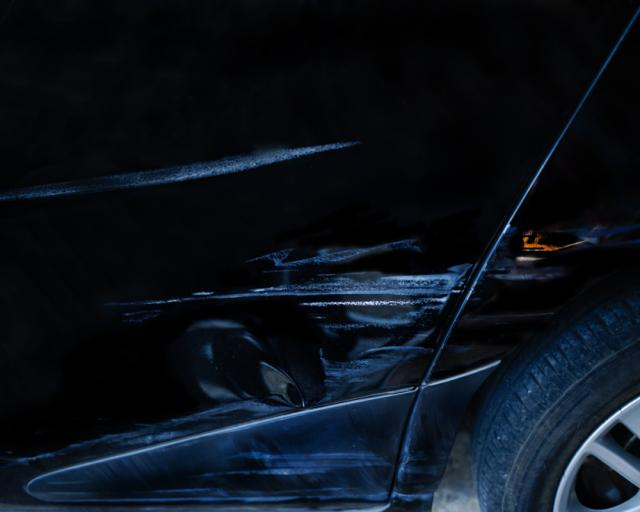dent: (154, 301, 330, 417)
scratch: (241, 230, 483, 391), (128, 449, 396, 508), (490, 224, 640, 288)
